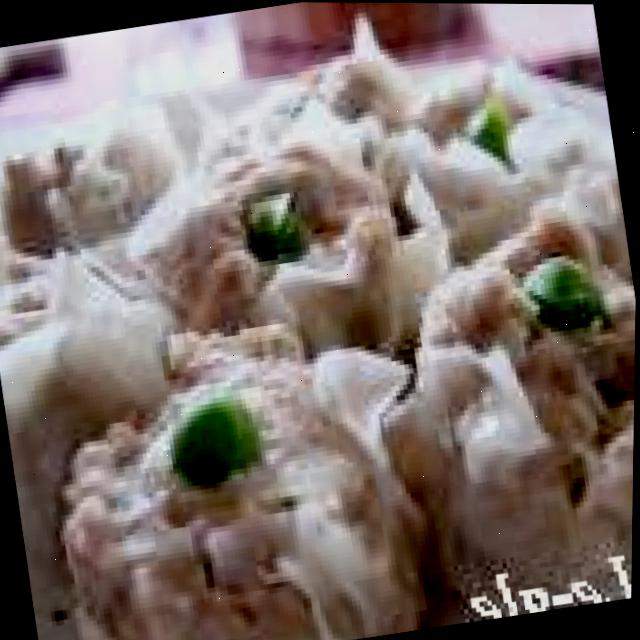带馅早点: (0, 31, 640, 607)
